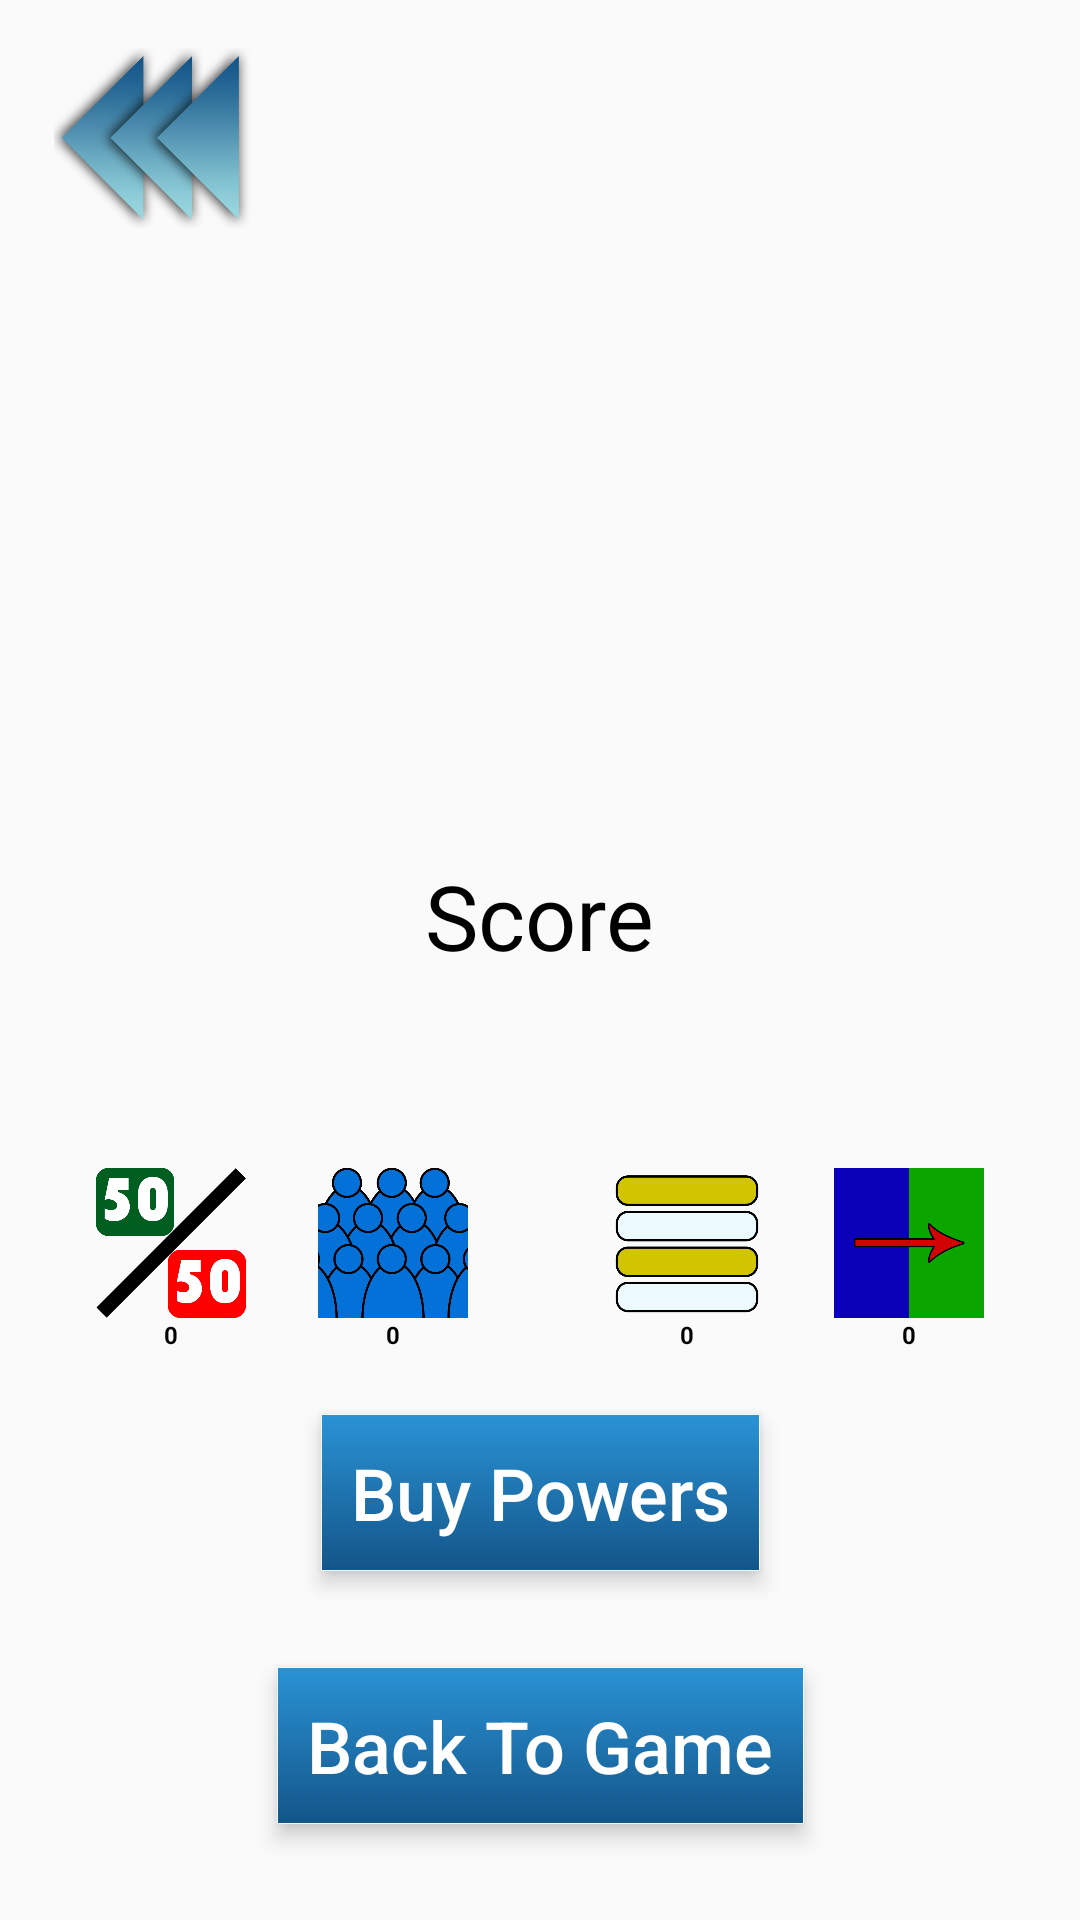

Where icons sit on this 1080px x 1920px app screen, as (x1, y1, x2, y2):
back: (55, 53, 245, 223)
